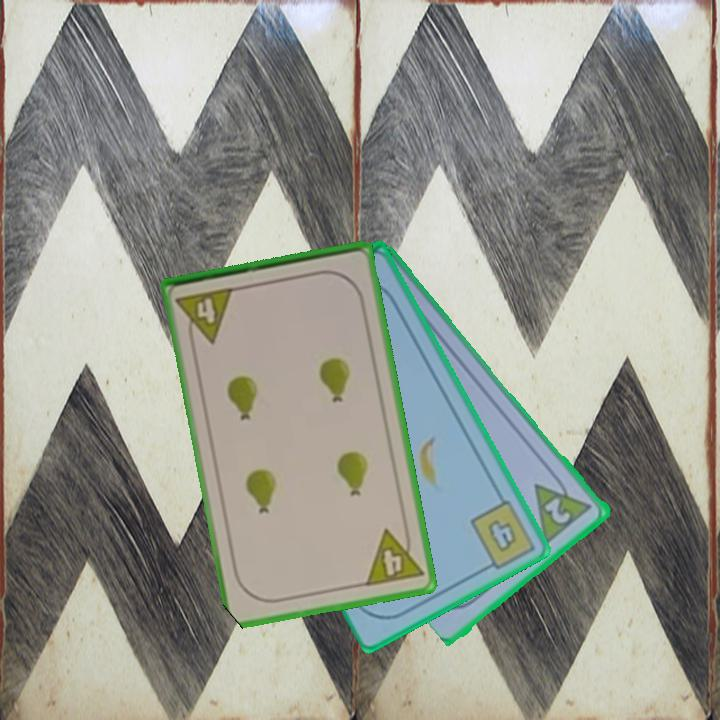2p: (541, 493, 575, 527)
4b: (466, 496, 539, 575)
4p: (361, 522, 426, 589), (173, 284, 237, 349)
